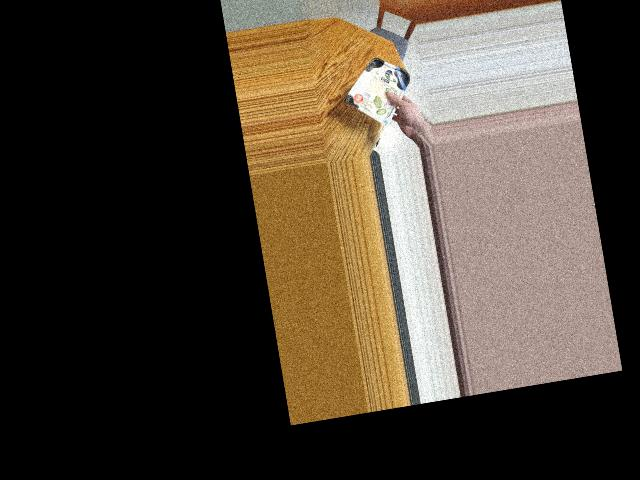cheese: (346, 52, 410, 118)
